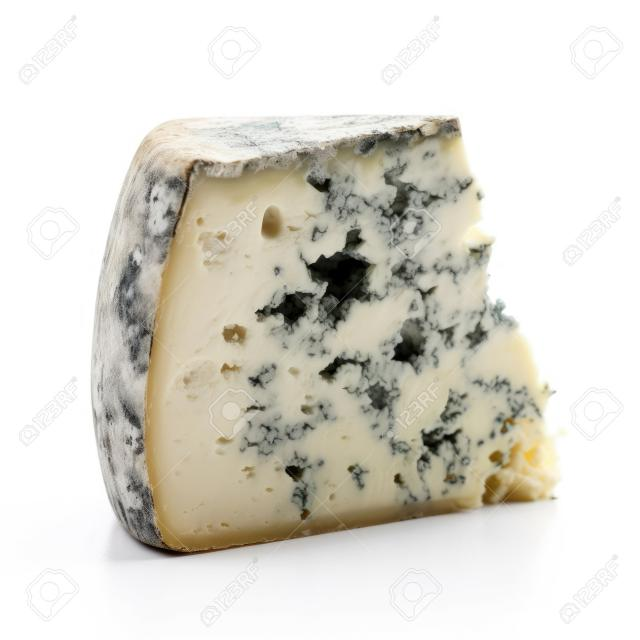Cheese: (81, 82, 559, 569)
